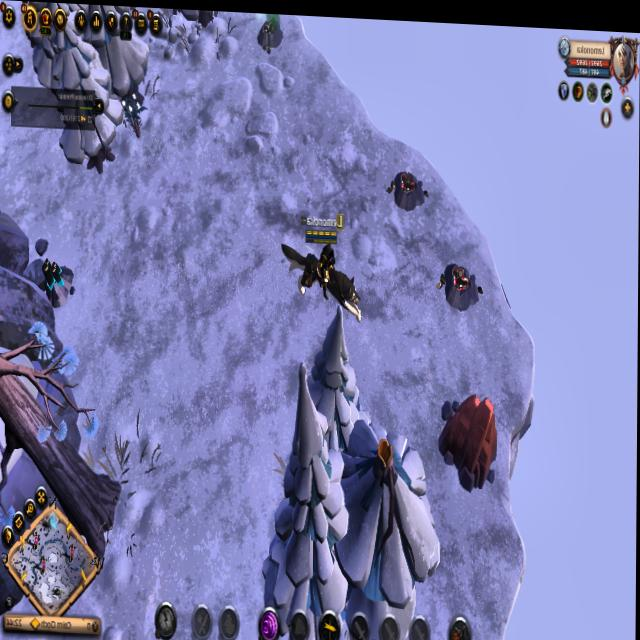fiber tier 4: (119, 89, 146, 141)
ore tier 4: (39, 253, 71, 311)
rock tier 5: (438, 383, 504, 488)
